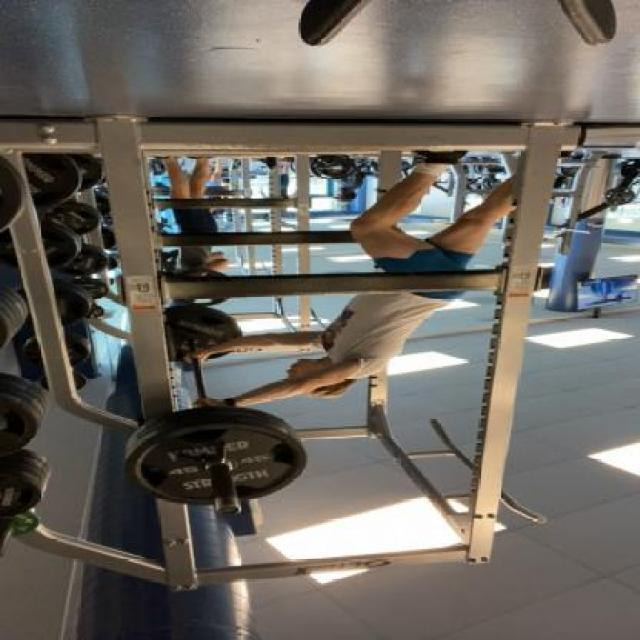Barbell: (216, 499, 247, 518)
